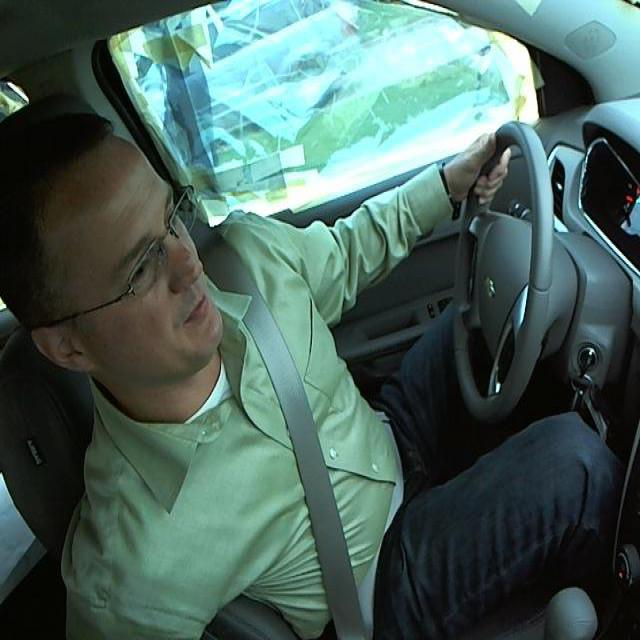seatbelt: (224, 283, 401, 613)
